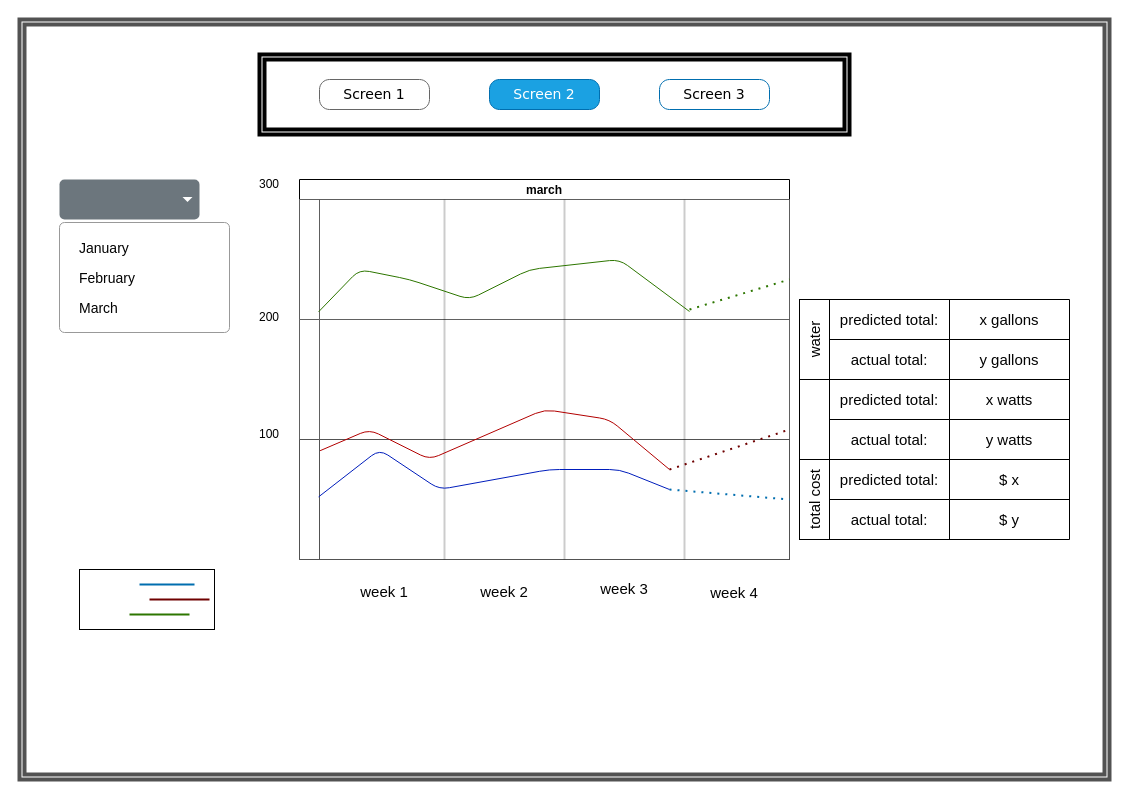
The diagram is 1128 pixels wide and 798 high, and some of its shapes have lost their labels. Here are the shapes that lost their labels. From the top down, the centre of each, then its label:
At point (129, 199): "choose month".
At point (814, 419): "electricity".
At point (146, 599): "water: electricity: cost:".
